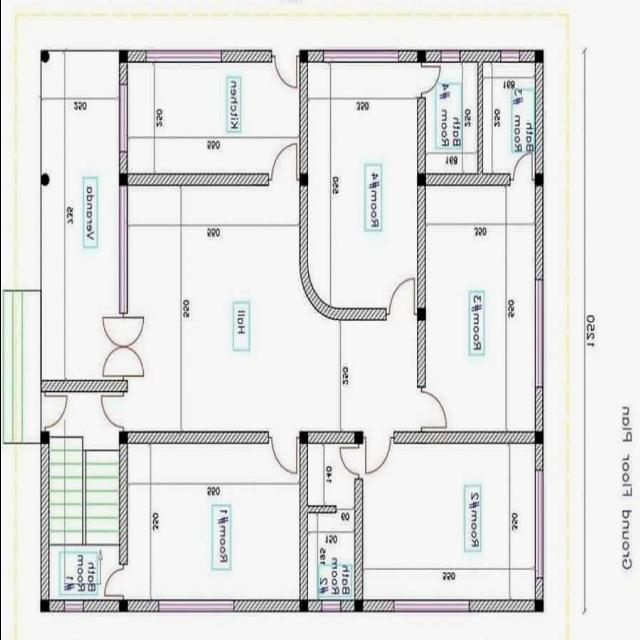Blueprint: (29, 38, 556, 624)
column: (414, 46, 428, 66), (531, 428, 544, 448), (530, 170, 544, 188), (38, 594, 50, 615), (37, 170, 51, 188), (414, 305, 427, 324), (414, 170, 426, 190), (532, 596, 544, 614), (532, 48, 544, 66), (296, 429, 308, 447), (296, 47, 308, 65), (38, 48, 50, 66), (116, 170, 128, 188), (297, 597, 309, 614), (116, 597, 128, 614), (116, 429, 128, 446), (352, 598, 364, 614), (352, 430, 364, 446), (297, 172, 309, 188), (38, 429, 50, 445), (116, 49, 128, 65)
wall: (392, 429, 536, 446), (124, 172, 270, 188), (125, 430, 270, 446), (37, 442, 50, 602), (298, 443, 308, 601), (38, 377, 128, 394), (352, 477, 364, 603), (415, 182, 426, 310), (298, 60, 310, 176), (118, 442, 128, 566), (423, 173, 511, 187), (232, 596, 300, 614), (474, 59, 484, 178), (534, 61, 544, 175), (466, 598, 535, 614), (533, 184, 544, 282), (218, 47, 272, 65), (415, 94, 426, 176), (415, 316, 426, 390), (305, 430, 355, 446), (457, 49, 501, 64), (79, 598, 119, 614), (360, 597, 395, 614), (533, 384, 544, 434), (126, 598, 160, 614), (304, 503, 336, 515), (533, 442, 544, 474), (396, 49, 418, 64), (125, 49, 147, 64), (532, 575, 544, 602), (47, 598, 66, 614), (517, 48, 535, 64), (338, 599, 356, 614), (423, 49, 441, 64), (306, 49, 324, 64), (118, 150, 128, 177), (118, 60, 128, 86), (306, 598, 322, 614)
